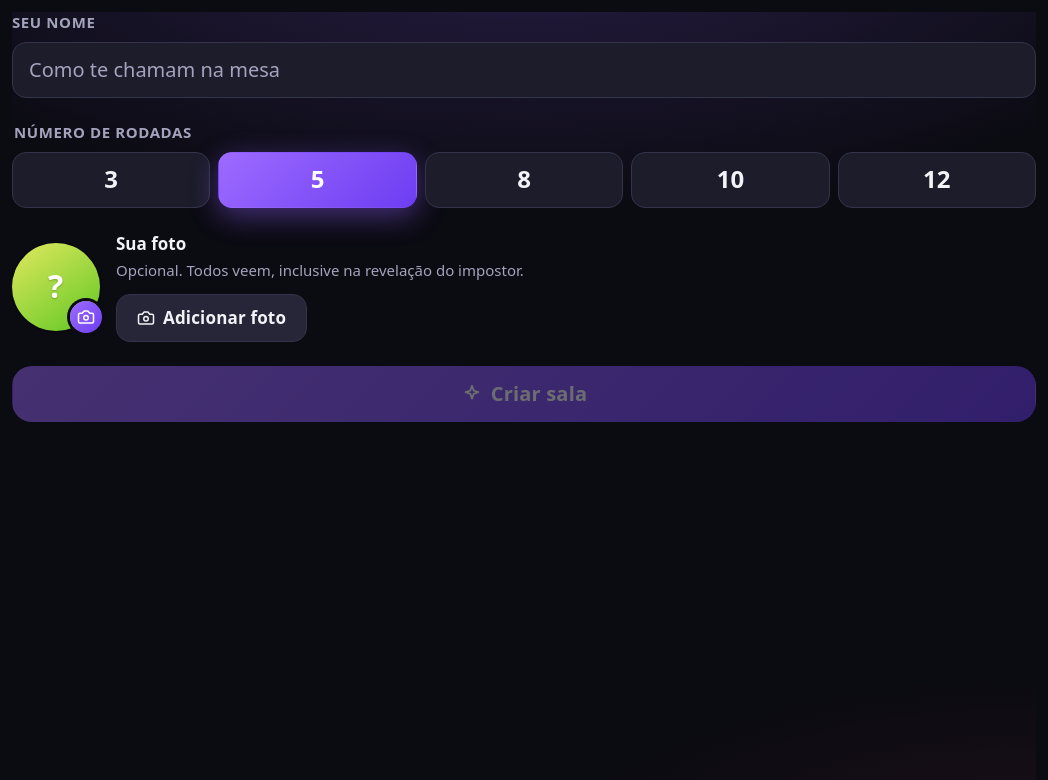
Test case: CreateRoomForm › shows the translated API error and stays on the form
In the field labelled "Seu nome": (524, 70) [12,42,1036,98], type "Ana"
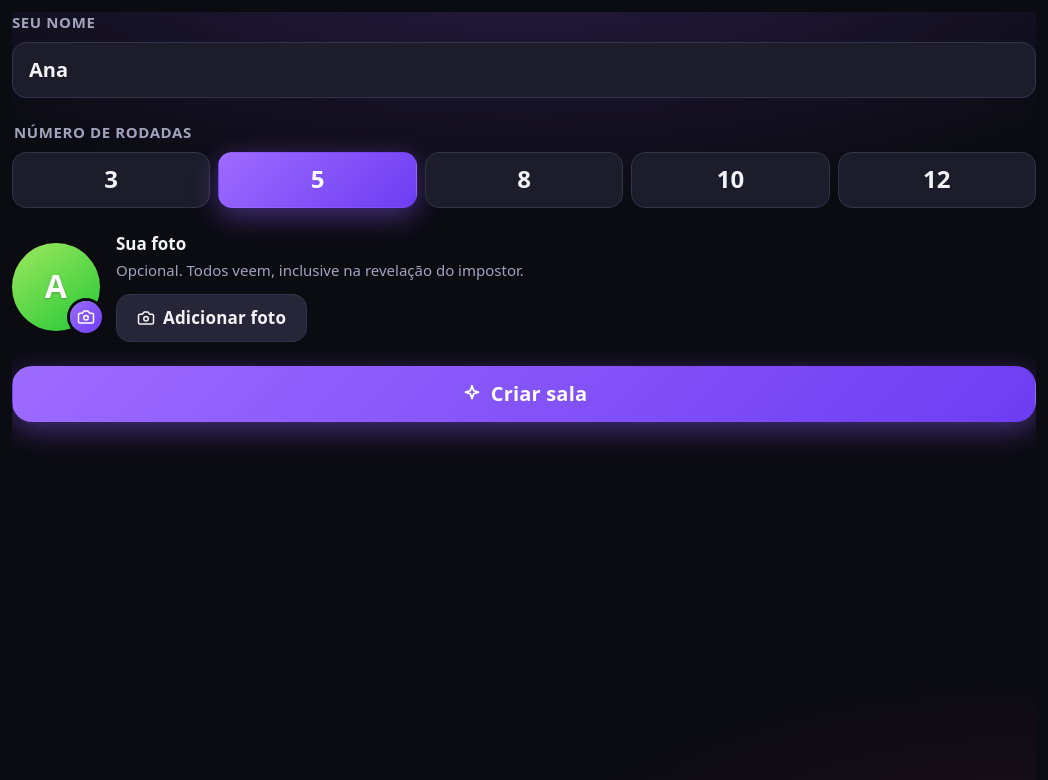
Click the button "Criar sala": (524, 394) [12,366,1036,422]
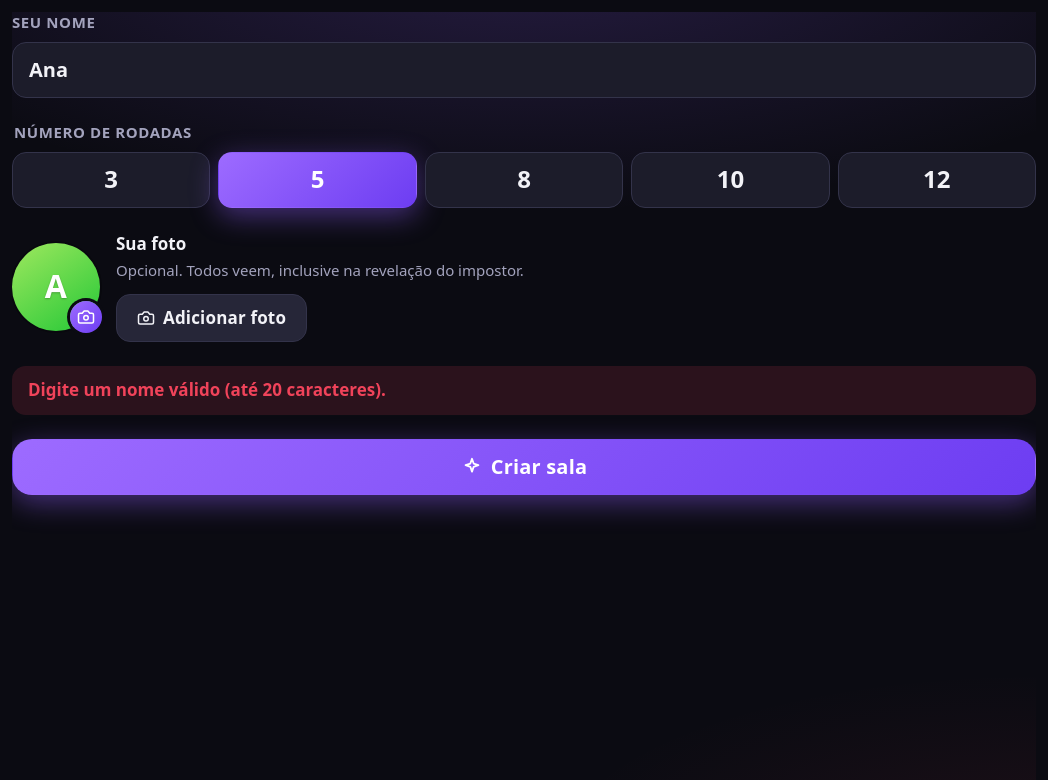
Expected: the button "Criar sala" is enabled, [12,438,1036,494]
Expected: the message shows "Digite um nome válido", [28,378,386,401]
